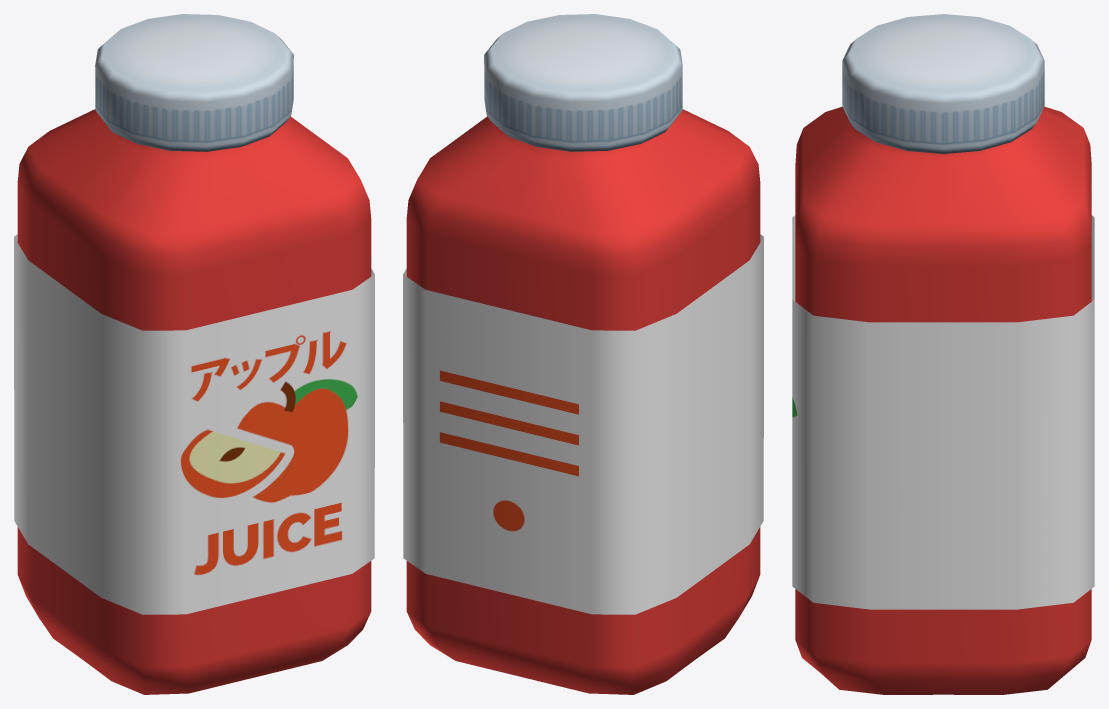
File: Juice_Bottle_06_Red.fbx
The picture shows the model from 3 angles, left to right: view 1: azimuth 30°, elevation 25°; view 2: azimuth 150°, elevation 25°; view 3: azimuth 270°, elevation 25°; orthographic projection.
Parts seen in each view (by area): view 1: Juice_Bottle_06_Red; view 2: Juice_Bottle_06_Red; view 3: Juice_Bottle_06_Red.
Boxes of the visible parts, x1,y1,x2,y2 form: Juice_Bottle_06_Red: (14,14,374,694); Juice_Bottle_06_Red: (403,14,763,694); Juice_Bottle_06_Red: (792,14,1094,694).
Size of the model in its own units: 2.85 by 6.08 by 2.84.
